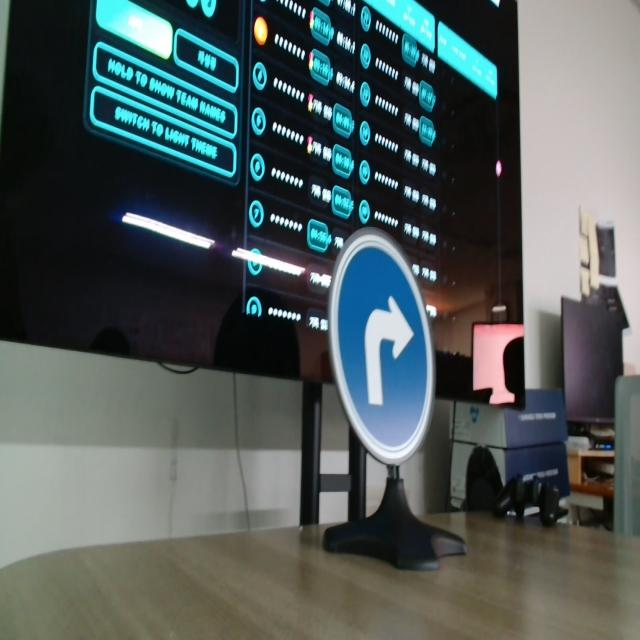right_dierection: (323, 222, 437, 474)
